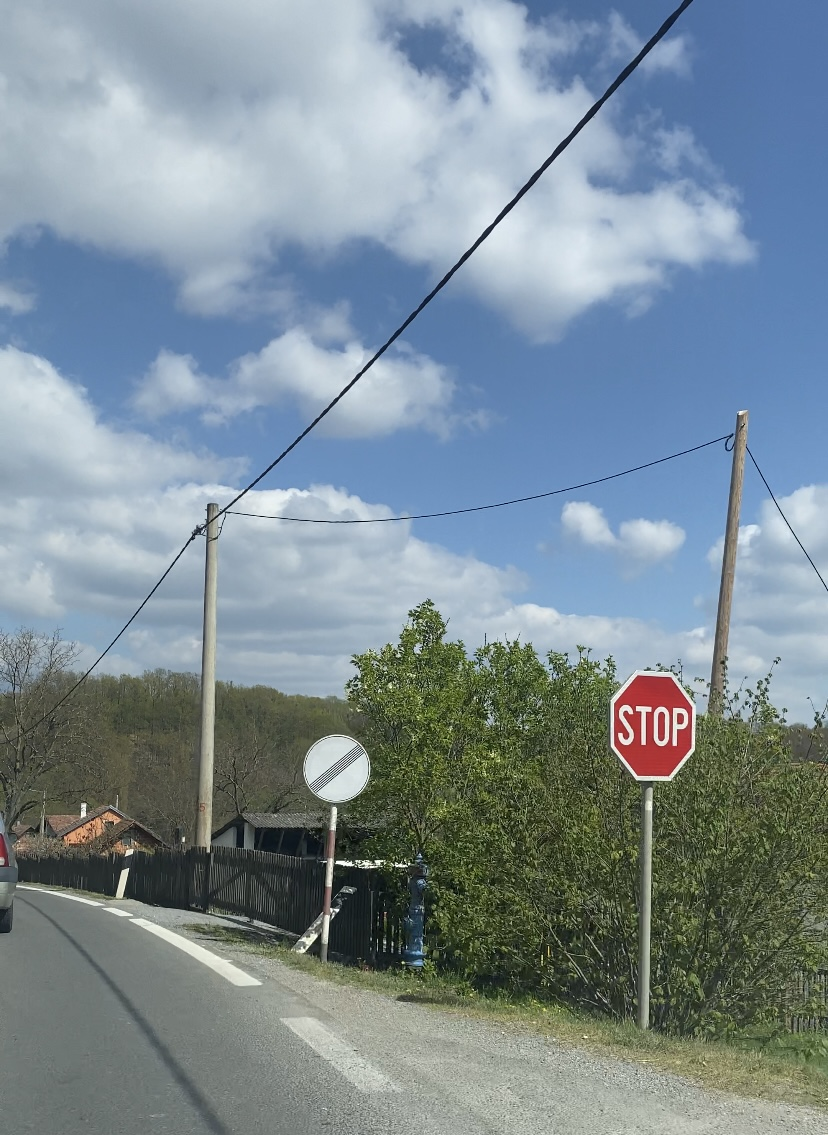Obavezno zaustavljanje: (610, 670, 697, 780)
